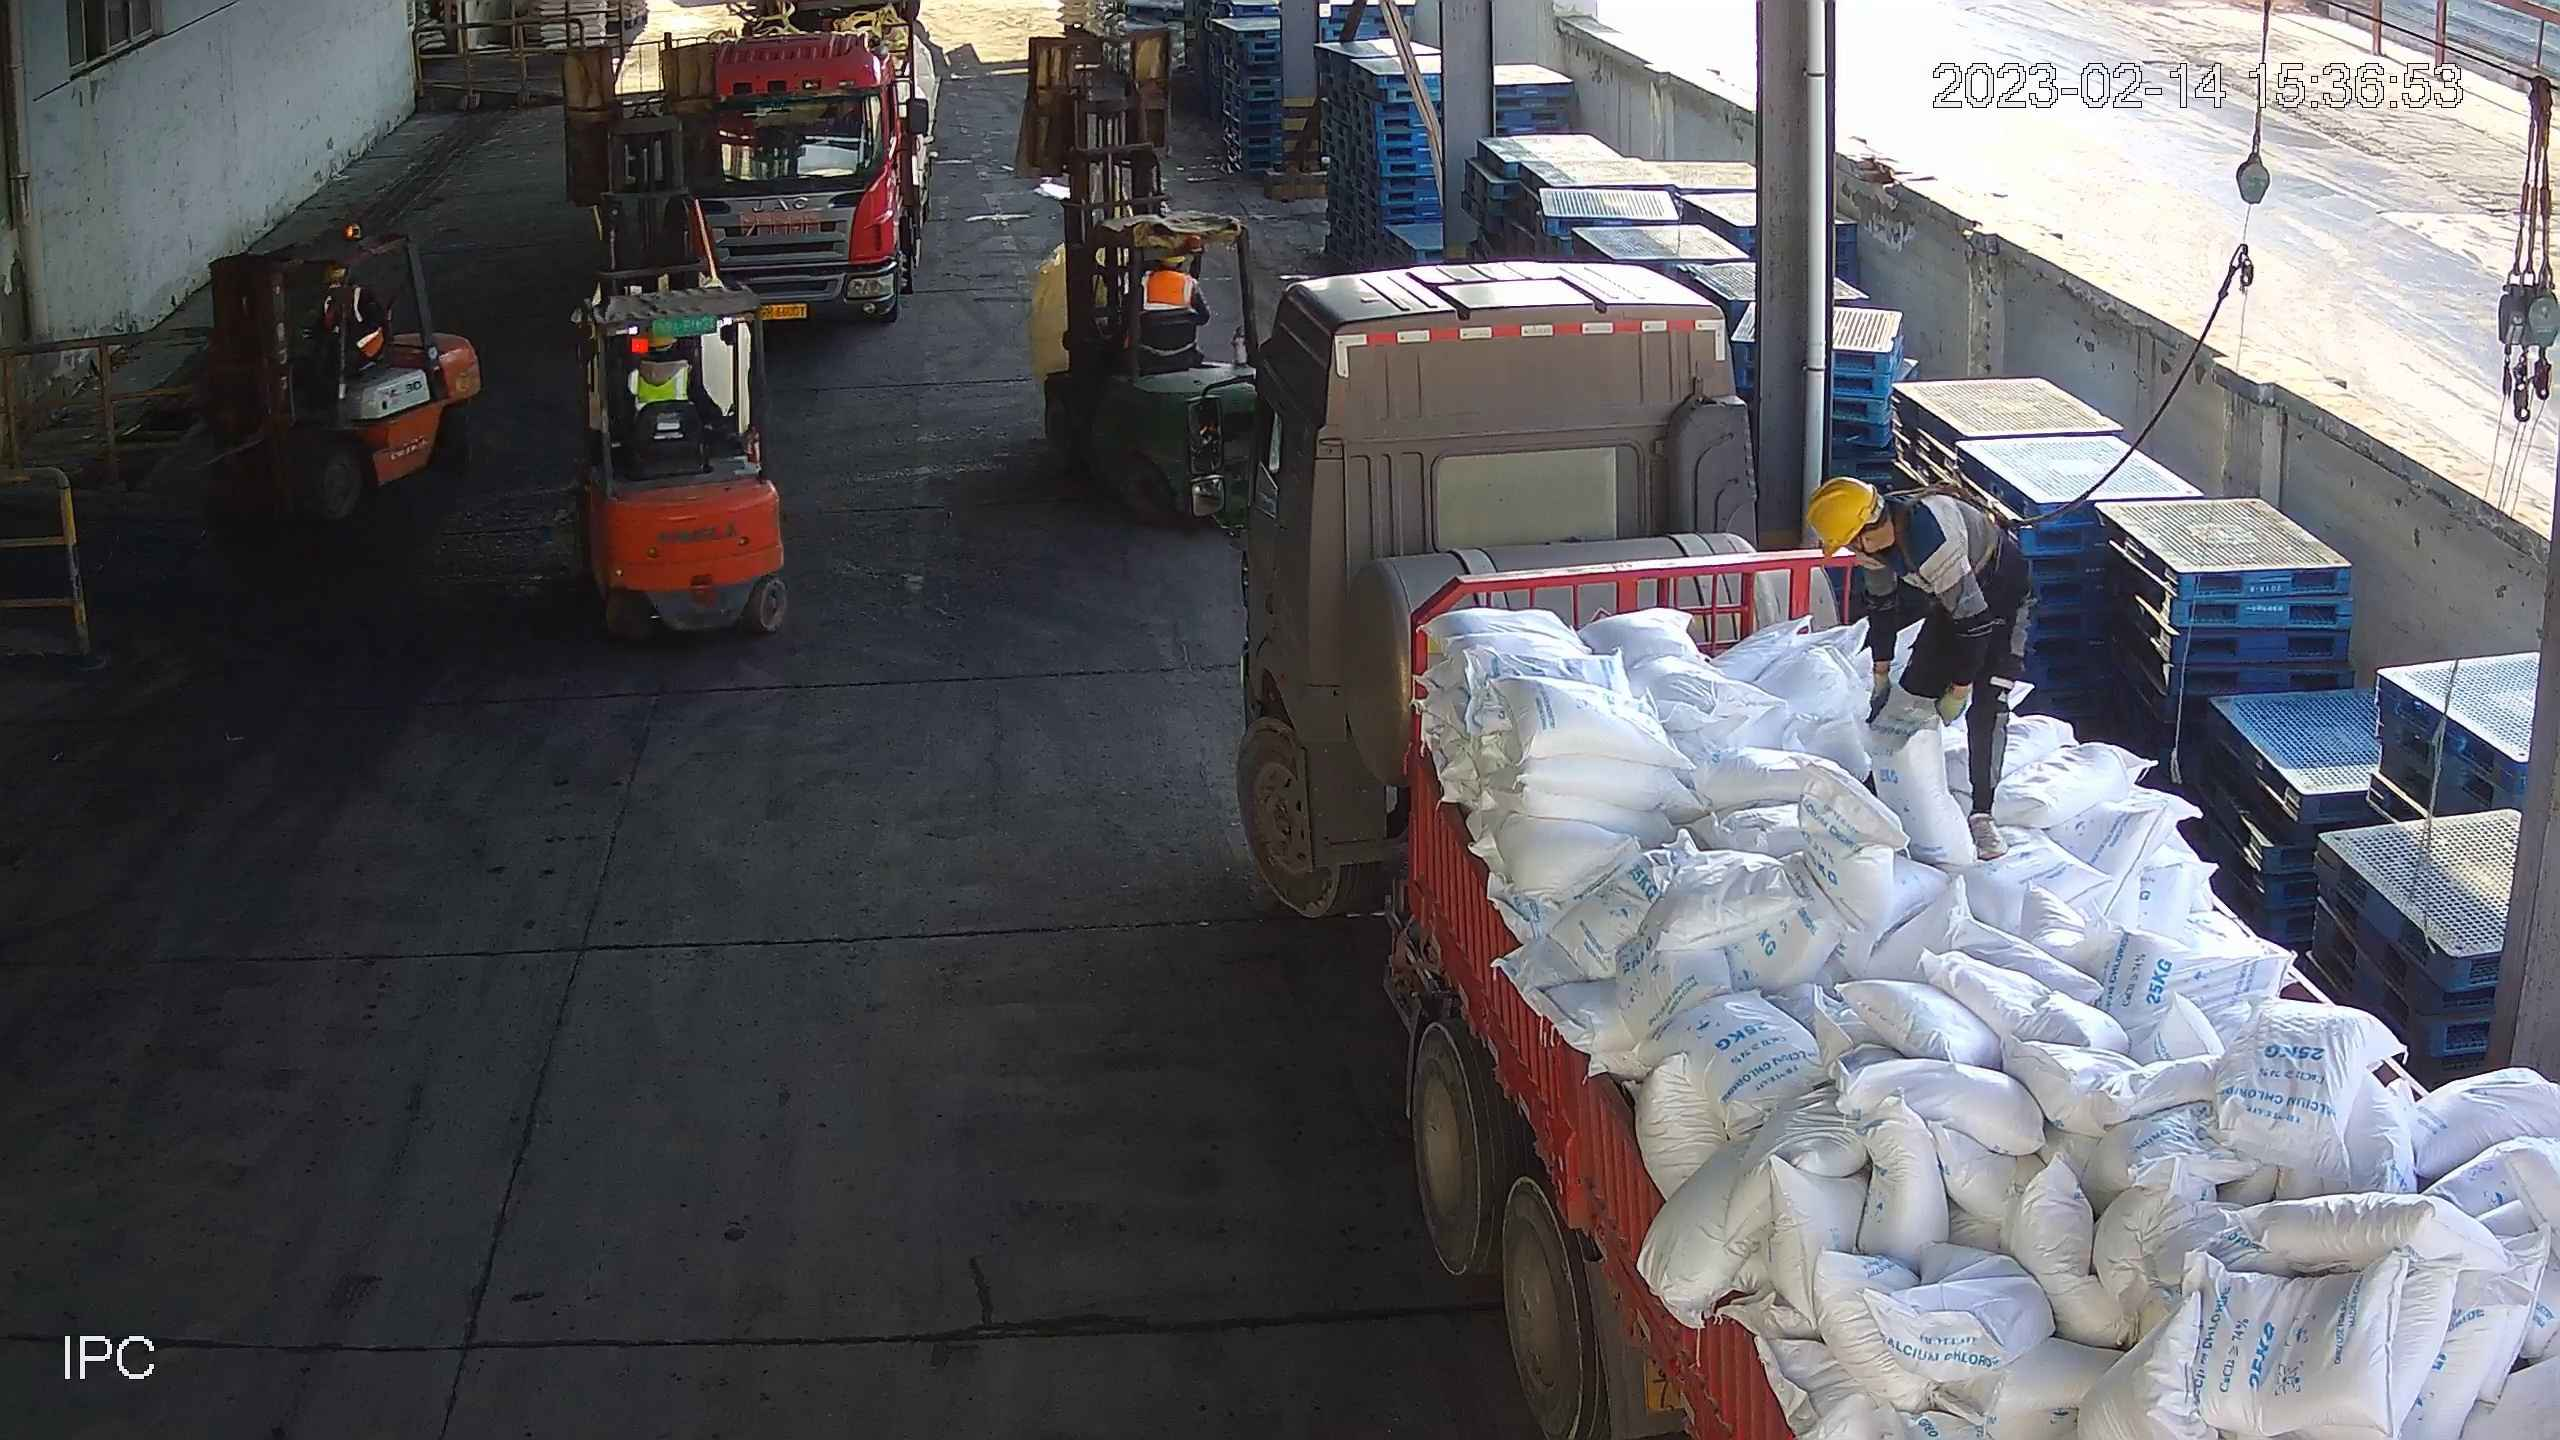head: (1810, 471, 1961, 595), (622, 327, 690, 386), (1150, 245, 1208, 293)
helmet: (1803, 473, 1879, 560)
people: (1800, 474, 2027, 853)
truck: (1186, 254, 2560, 1440), (605, 1, 964, 312)
